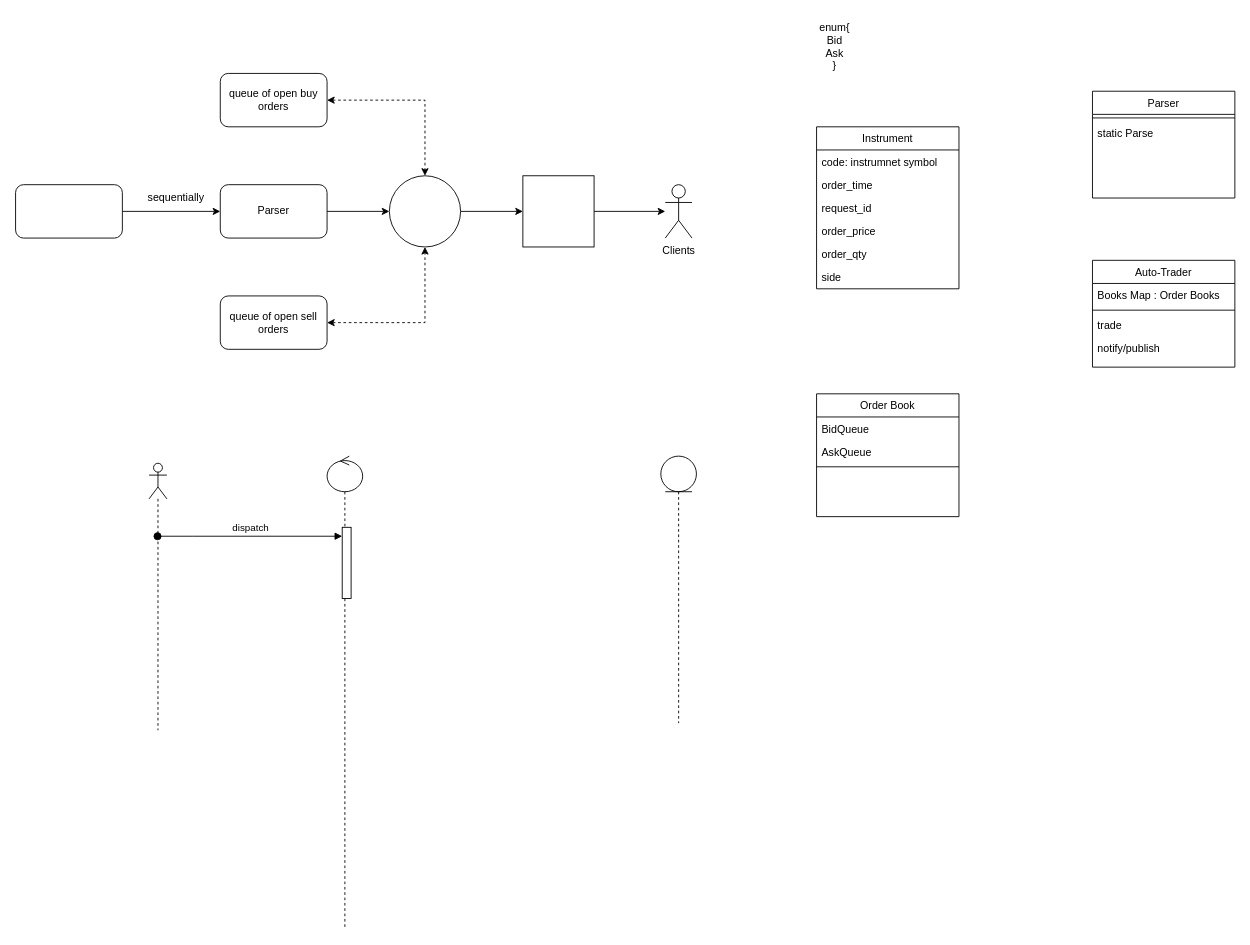
Some shapes in this 1250 by 945 pixel diagram are drawn without their labels. The shapes that lost their labels are listed below. From the top down, each one's centre as x and y in pixels, then its label:
(x=68, y=211): CSV Limit Orders
(x=424, y=211): trader
(x=558, y=211): trade package
